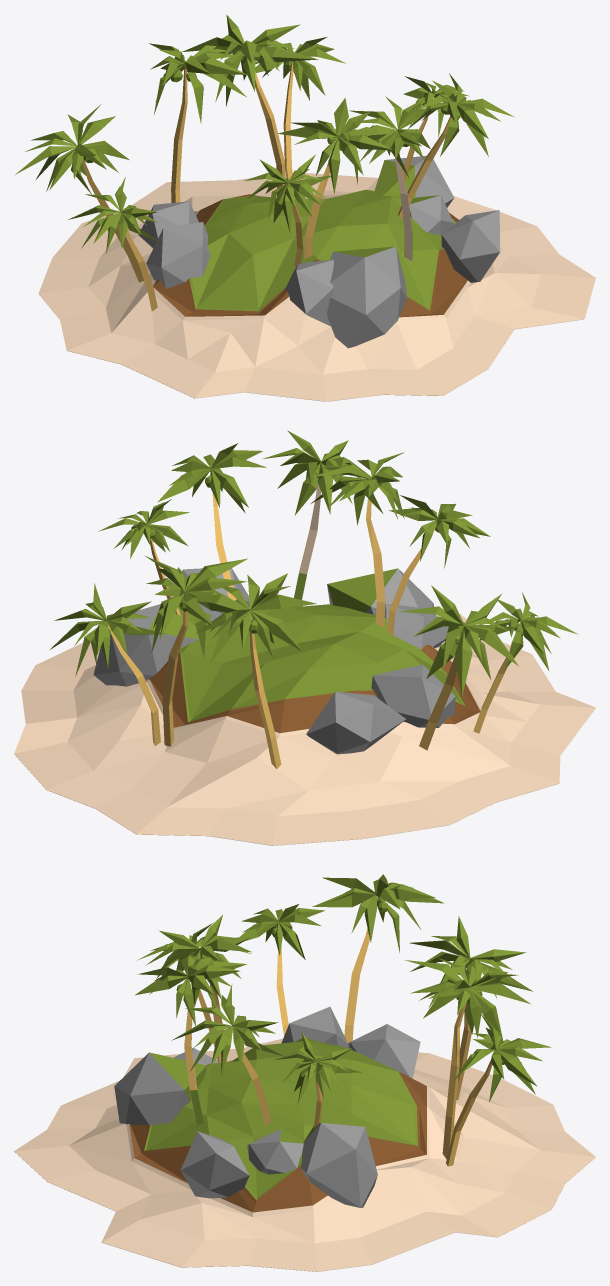
File: iceland-custom.glb
The picture shows the model from 3 angles, top to bottom: view 1: azimuth 30°, elevation 25°; view 2: azimuth 150°, elevation 25°; view 3: azimuth 270°, elevation 25°; orthographic projection. The views are drawn at different scales.
Parts seen in each view (by area): view 1: Island; view 2: Island; view 3: Island.
Part boxes in pixels (x1,y1,x2,y2): Island: (15, 14, 595, 401); Island: (14, 430, 595, 845); Island: (14, 874, 595, 1271).
Size of the model in its own units: 104 by 44.38 by 107.
Materials: 1 (1 with a texture image).
